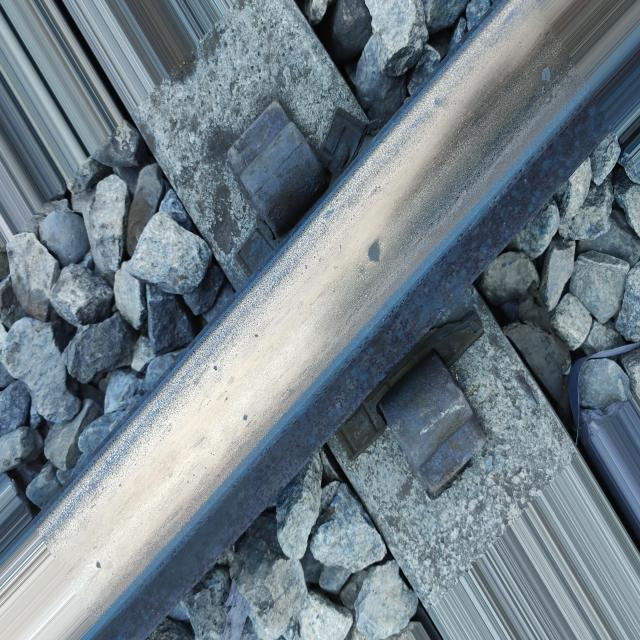broken_rail_medium: (364, 237, 386, 267), (541, 64, 551, 84), (239, 410, 249, 424), (92, 557, 102, 569), (211, 362, 221, 371)
